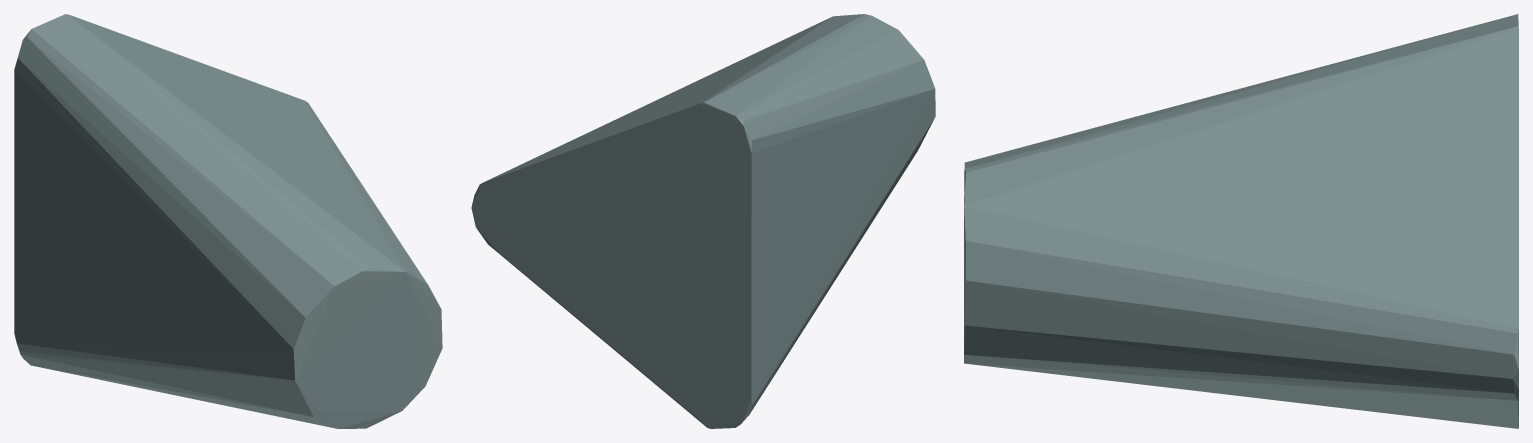
File: vehicleSupport_jack_stand_b01.glb
3 renders of one model, left to right at view 1: azimuth 30°, elevation 25°; view 2: azimuth 150°, elevation 25°; view 3: azimuth 270°, elevation 25°, orthographic. The views are drawn at different scales.
Visible parts, largest first — view 1: geometry_0; view 2: geometry_0; view 3: geometry_0.
Boxes of the visible parts, box(x1,y1,x2,y2) form: geometry_0: box(14, 14, 442, 428); geometry_0: box(471, 14, 935, 428); geometry_0: box(964, 14, 1518, 428).
Size of the model in its own units: 0.3492 by 0.3868 by 0.48.
